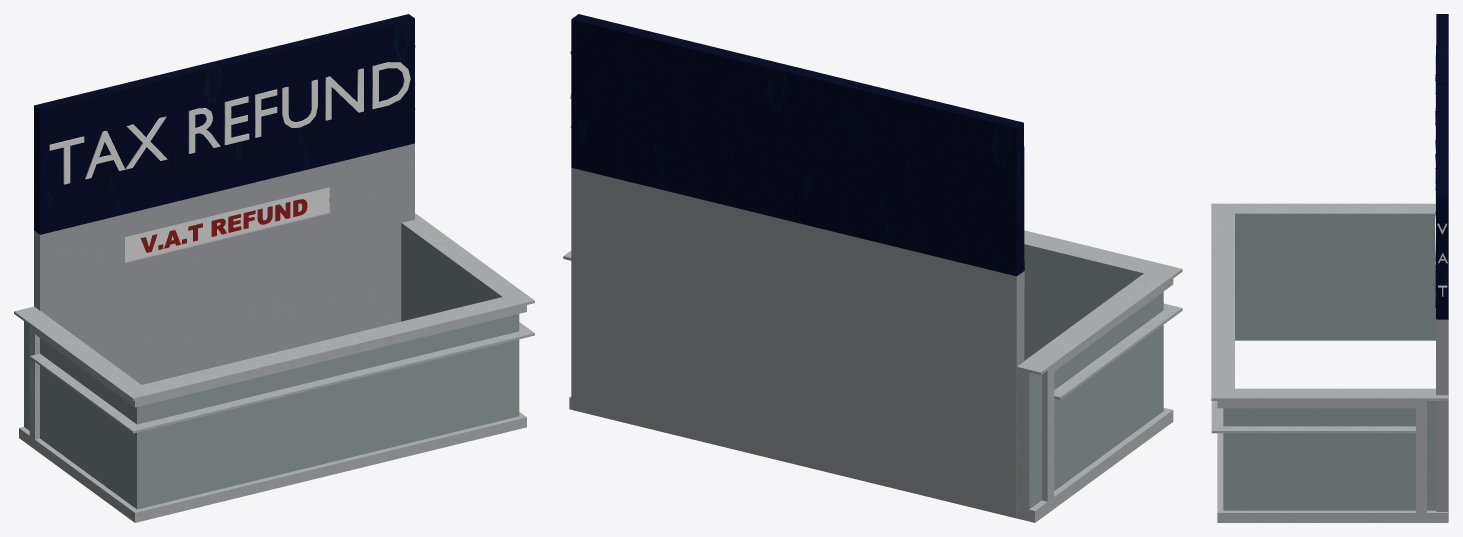
The model's file is Tax counter.fbx.
3 renders of one model, left to right at view 1: azimuth 30°, elevation 25°; view 2: azimuth 150°, elevation 25°; view 3: azimuth 270°, elevation 25°, orthographic. The views are drawn at different scales.
Visible parts, largest first — view 1: Tax Counter; view 2: Tax Counter; view 3: Tax Counter.
Boxes of the visible parts, <box> form: Tax Counter: <box>14,14,534,522</box>; Tax Counter: <box>563,14,1182,522</box>; Tax Counter: <box>1211,14,1448,522</box>.
Bounding box in the file's own units: 4.08 × 3.19 × 2.1.
